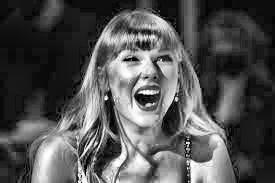happy: (103, 22, 194, 140)
